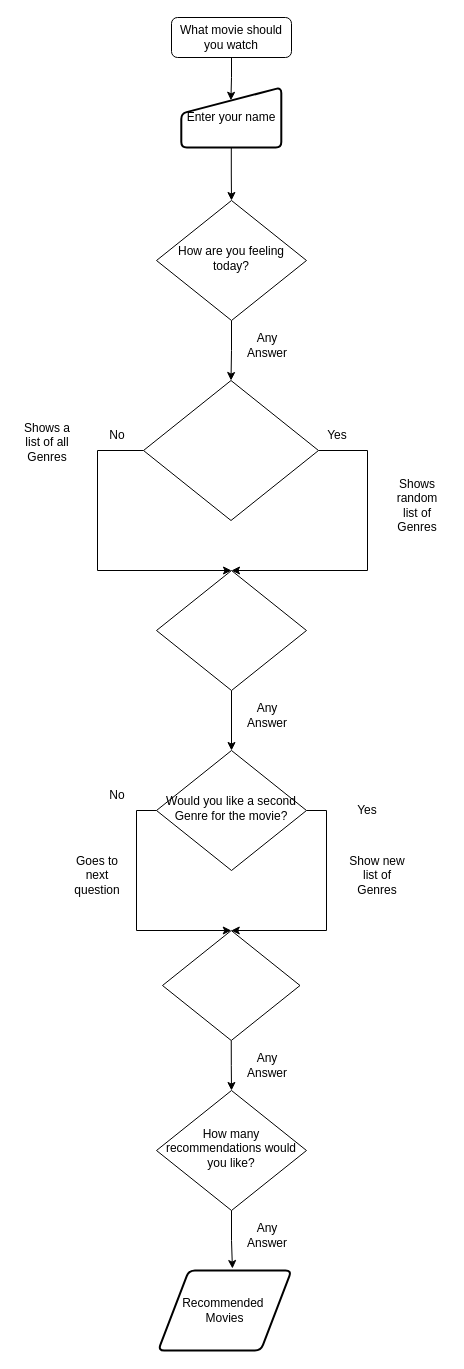
Some shapes in this 464 by 1369 pixel diagram are drawn without their labels. Each missing label, with the centre of its shape:
What Main Genre would you like?: (x=231, y=630)
What year the movie came out?: (x=231, y=985)
Would you like to choose between a set of recommended Genres: (x=230, y=450)
